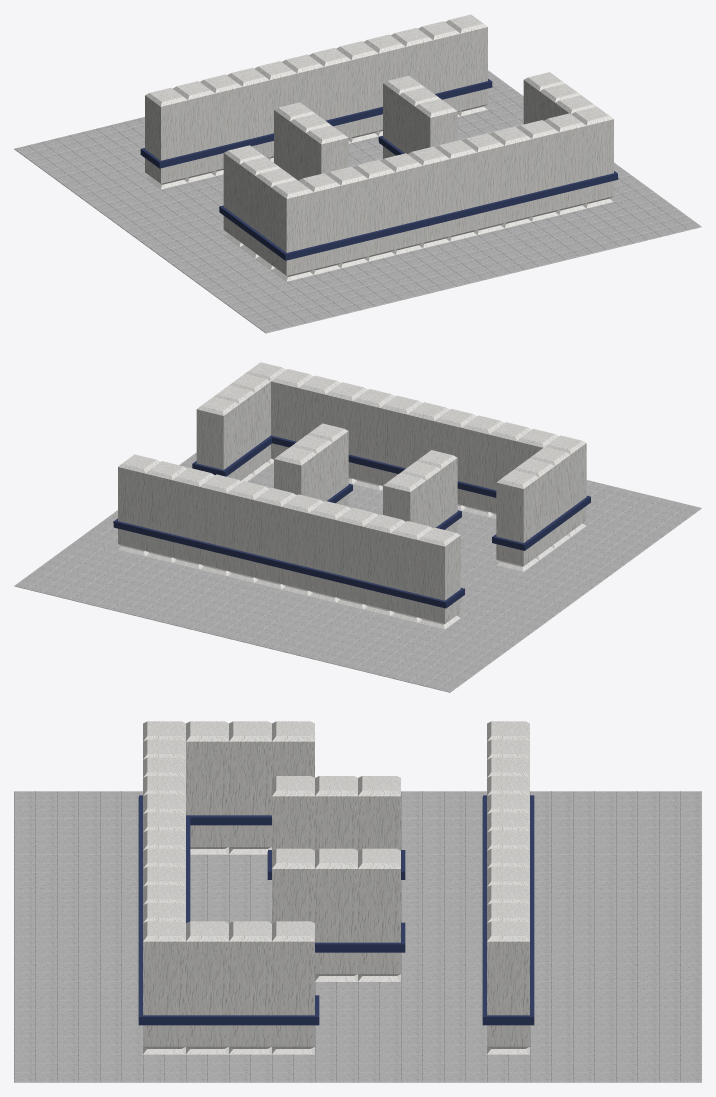
Rendered from clean-room.glb.
The picture shows the model from 3 angles, top to bottom: view 1: azimuth 30°, elevation 25°; view 2: azimuth 150°, elevation 25°; view 3: azimuth 270°, elevation 25°; orthographic projection. The views are drawn at different scales.
Visible parts, largest first — view 1: Dark-Wall.033, Dark-Wall.015, Dark-Wall.008, Dark-Wall.017, Dark-Wall.014, Dark-Wall.006, Dark-Wall.009, Dark-Wall.034, Dark-Wall.016, Dark-Wall.028, Dark-Wall.032, Dark-Wall.012 (+24 smaller); view 2: Dark-Wall.033, Dark-Wall.021, Dark-Wall.018, Dark-Wall.027, Dark-Wall.030, Dark-Wall.024, Dark-Wall.026, Dark-Wall.010, Dark-Wall.029, Dark-Wall.034, Dark-Wall.035, Dark-Wall.031 (+23 smaller); view 3: Dark-Wall.014, Dark-Wall.018, Dark-Wall.019, Dark-Wall.020, Dark-Wall.032, Dark-Wall.001, Dark-Wall.004, Dark-Wall.022, Dark-Wall.023, Dark-Wall.005, Dark-Wall, Dark-Wall.002 (+28 smaller).
Boxes of the visible parts, box(x1,y1,x2,y2) form: Dark-Wall.033: box(145, 87, 187, 189); Dark-Wall.015: box(271, 180, 313, 281); Dark-Wall.008: box(407, 146, 450, 248); Dark-Wall.017: box(326, 166, 368, 268); Dark-Wall.014: box(571, 106, 613, 208); Dark-Wall.006: box(353, 160, 395, 261); Dark-Wall.009: box(435, 140, 477, 241); Dark-Wall.034: box(173, 81, 215, 182); Dark-Wall.016: box(299, 173, 341, 274); Dark-Wall.028: box(336, 41, 378, 142); Dark-Wall.032: box(445, 14, 487, 116); Dark-Wall.012: box(517, 120, 559, 221); Dark-Wall.033: box(417, 527, 460, 629); Dark-Wall.021: box(496, 470, 539, 571); Dark-Wall.018: box(196, 397, 239, 479); Dark-Wall.027: box(254, 487, 296, 589); Dark-Wall.030: box(172, 467, 214, 569); Dark-Wall.024: box(336, 507, 378, 609); Dark-Wall.026: box(281, 494, 323, 595); Dark-Wall.010: box(352, 389, 395, 490); Dark-Wall.029: box(199, 474, 241, 576); Dark-Wall.034: box(390, 521, 432, 622); Dark-Wall.035: box(363, 514, 405, 615); Dark-Wall.031: box(145, 461, 187, 562); Dark-Wall.014: box(143, 921, 185, 1054); Dark-Wall.018: box(272, 921, 314, 1054); Dark-Wall.019: box(229, 921, 271, 1054); Dark-Wall.020: box(186, 921, 228, 1054); Dark-Wall.032: box(487, 921, 529, 1054); Dark-Wall.001: box(358, 848, 400, 981); Dark-Wall.004: box(315, 848, 357, 981); Dark-Wall.022: box(229, 721, 271, 854); Dark-Wall.023: box(186, 721, 228, 854); Dark-Wall.005: box(272, 848, 314, 922); Dark-Wall: box(358, 776, 400, 850); Dark-Wall.002: box(315, 776, 357, 850).
Size of the model in its own units: 16 by 3.02 by 16.
3 materials, 2 textured.
